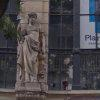Statue: (13, 5, 61, 89)
